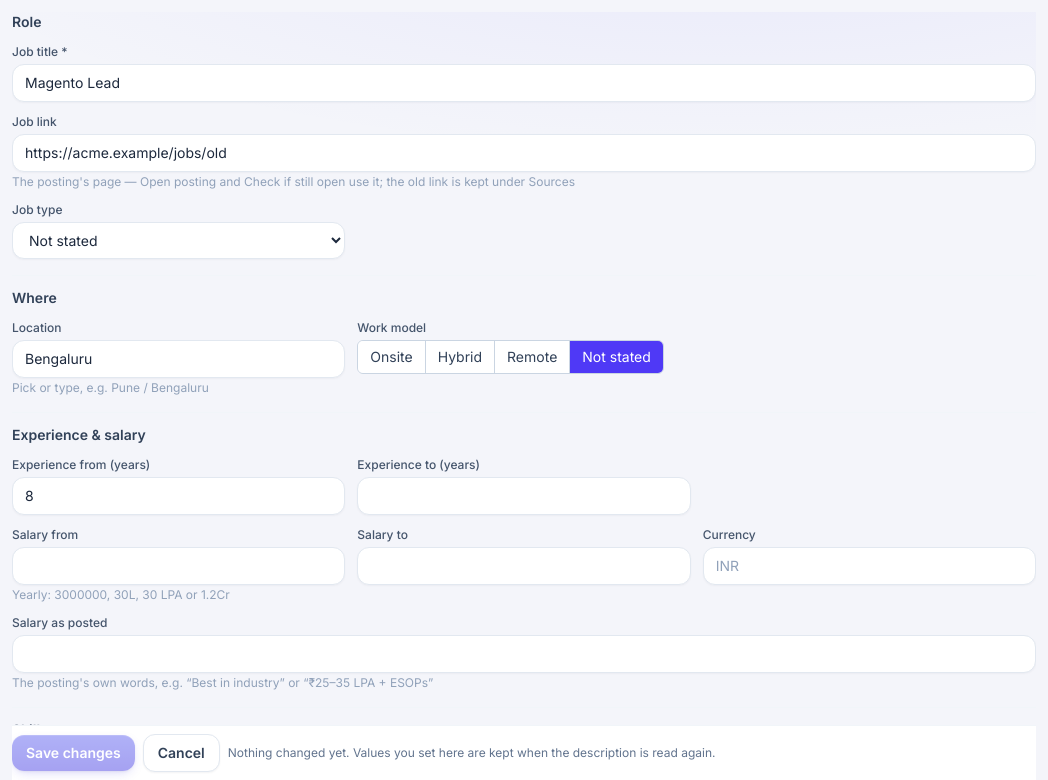
Scenario: EditJob salary, skills and checks › marks a range that runs backwards and undoes changes
The image size is (1048, 780).
Type "5" into the field labelled "Experience to (years)" at (524, 496), box left=357, top=477, right=691, bottom=515
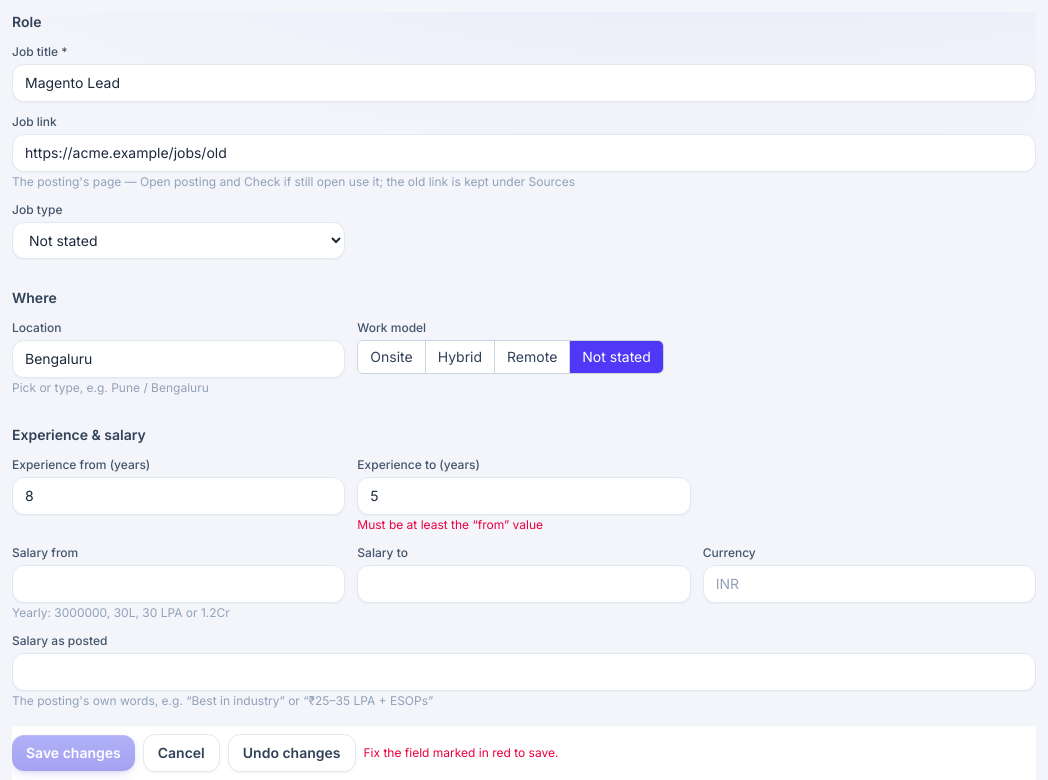
Check: the button "Save changes" is disabled, box left=12, top=735, right=135, bottom=771
Check: the text "Must be at least the “from” value" is shown, box left=357, top=517, right=543, bottom=532
Click the button "Undo changes" at (292, 753), box left=228, top=734, right=356, bottom=772
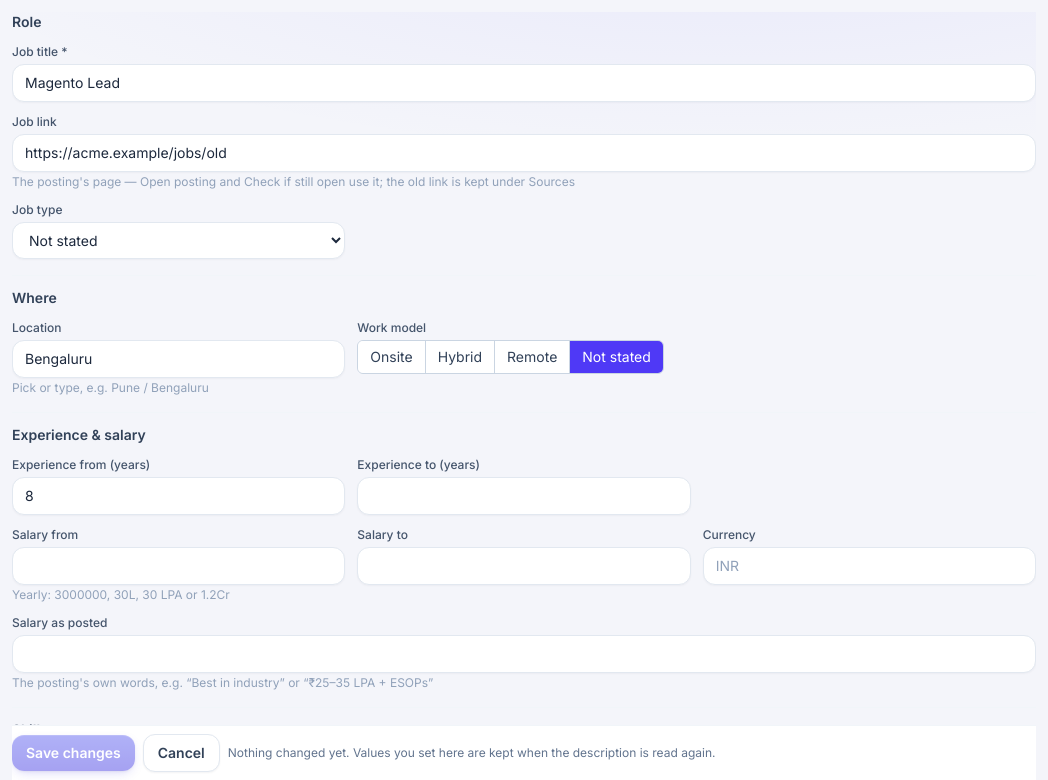
Check: the field labelled "Experience to (years)" is empty, box left=357, top=477, right=691, bottom=515
Check: the button "Undo changes" is gone
